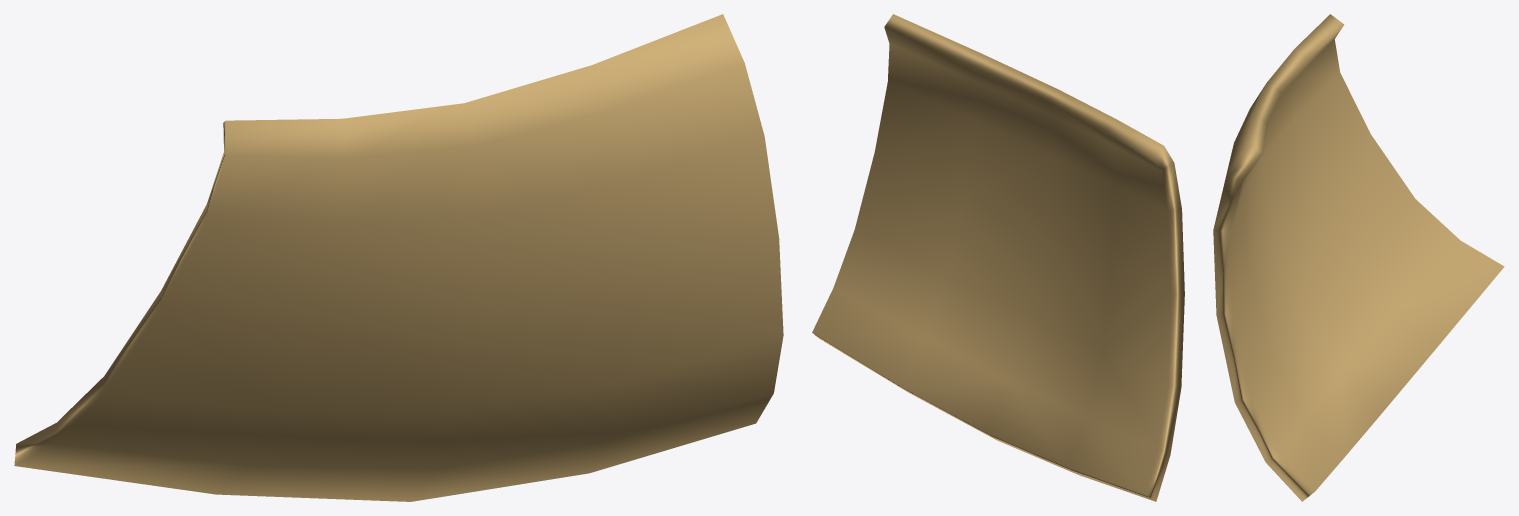
The picture shows the model from 3 angles, left to right: view 1: azimuth 30°, elevation 25°; view 2: azimuth 150°, elevation 25°; view 3: azimuth 270°, elevation 25°; orthographic projection. The views are drawn at different scales.
Visible parts, largest first — view 1: 左侧距舟韧带; view 2: 左侧距舟韧带; view 3: 左侧距舟韧带.
Boxes of the visible parts, x1,y1,x2,y2 form: 左侧距舟韧带: (14, 14, 783, 501); 左侧距舟韧带: (812, 14, 1184, 501); 左侧距舟韧带: (1213, 14, 1504, 501).
Bounding box in the file's own units: 0.0216 × 0.0166 × 0.0121.
